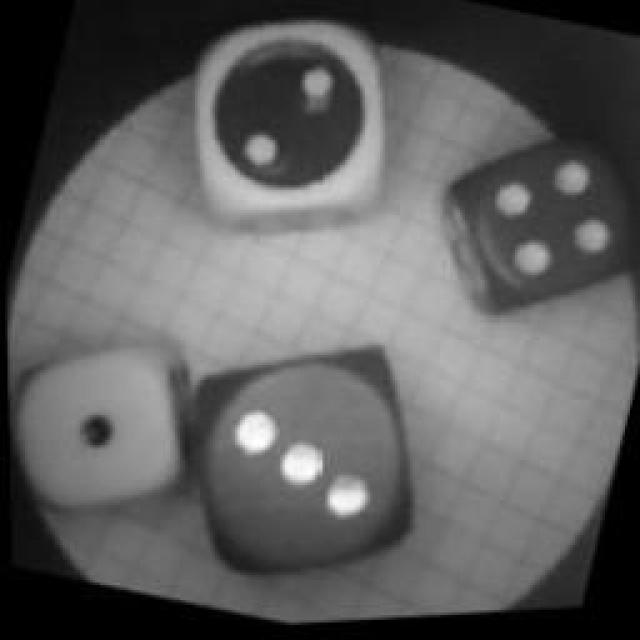dice_1: (4, 306, 214, 542)
dice_2: (156, 0, 422, 265)
dice_3: (150, 299, 455, 611)
dice_4: (420, 95, 640, 345)
